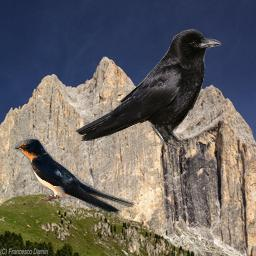Crow: (74, 29, 222, 149)
Swallow: (11, 135, 136, 215)
